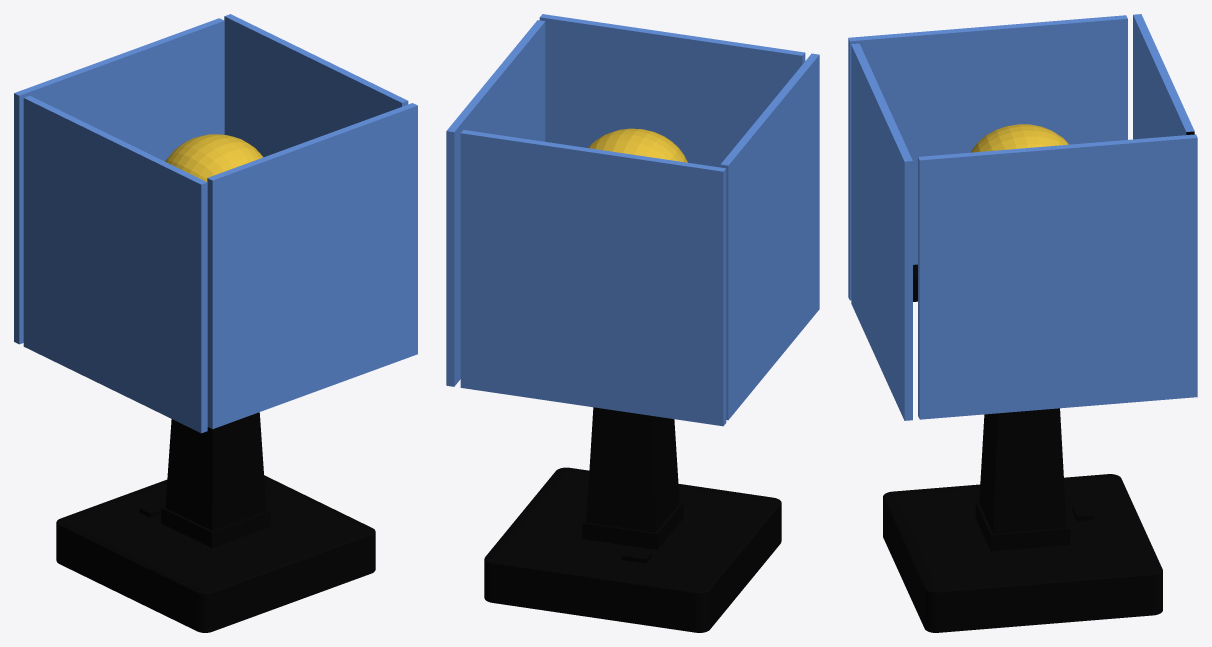
Rendered from lamp.fbx.
3 renders of one model, left to right at view 1: azimuth 30°, elevation 25°; view 2: azimuth 150°, elevation 25°; view 3: azimuth 270°, elevation 25°, orthographic. The views are drawn at different scales.
Parts seen in each view (by area): view 1: LampStand, Lamp; view 2: LampStand, Lamp; view 3: LampStand, Lamp.
Boxes of the visible parts, bbox=[...] form: LampStand: bbox=[14, 14, 417, 632]; Lamp: bbox=[165, 134, 263, 181]; LampStand: bbox=[446, 14, 819, 632]; Lamp: bbox=[588, 128, 687, 162]; LampStand: bbox=[848, 14, 1197, 632]; Lamp: bbox=[970, 124, 1068, 152].
Size of the model in its own units: 28.52 by 43.91 by 28.52.
